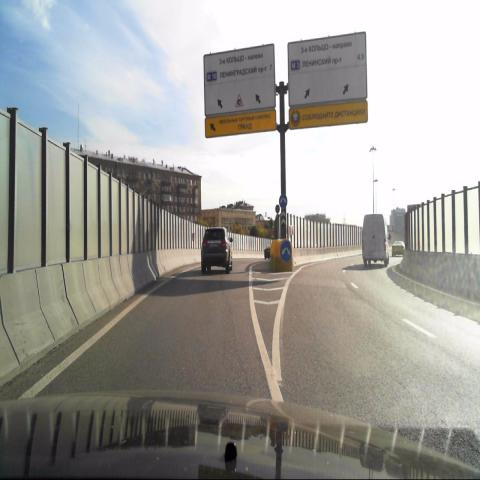4_2_3: (280, 240, 292, 263)
